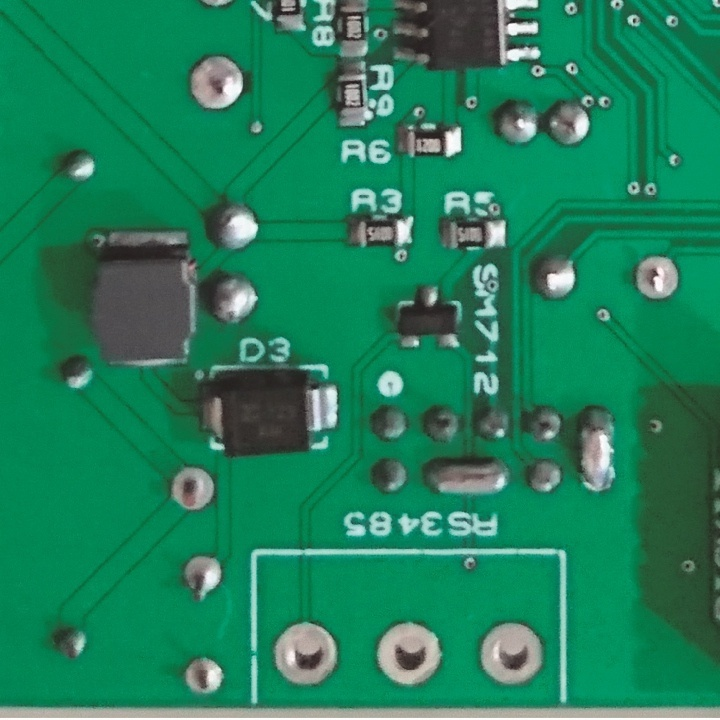F: (269, 617, 344, 691), (372, 621, 445, 690), (477, 619, 545, 689), (184, 52, 247, 114), (167, 464, 217, 515), (634, 252, 682, 302), (179, 552, 226, 603), (181, 653, 231, 698)
P: (573, 400, 619, 498), (420, 454, 512, 500)
